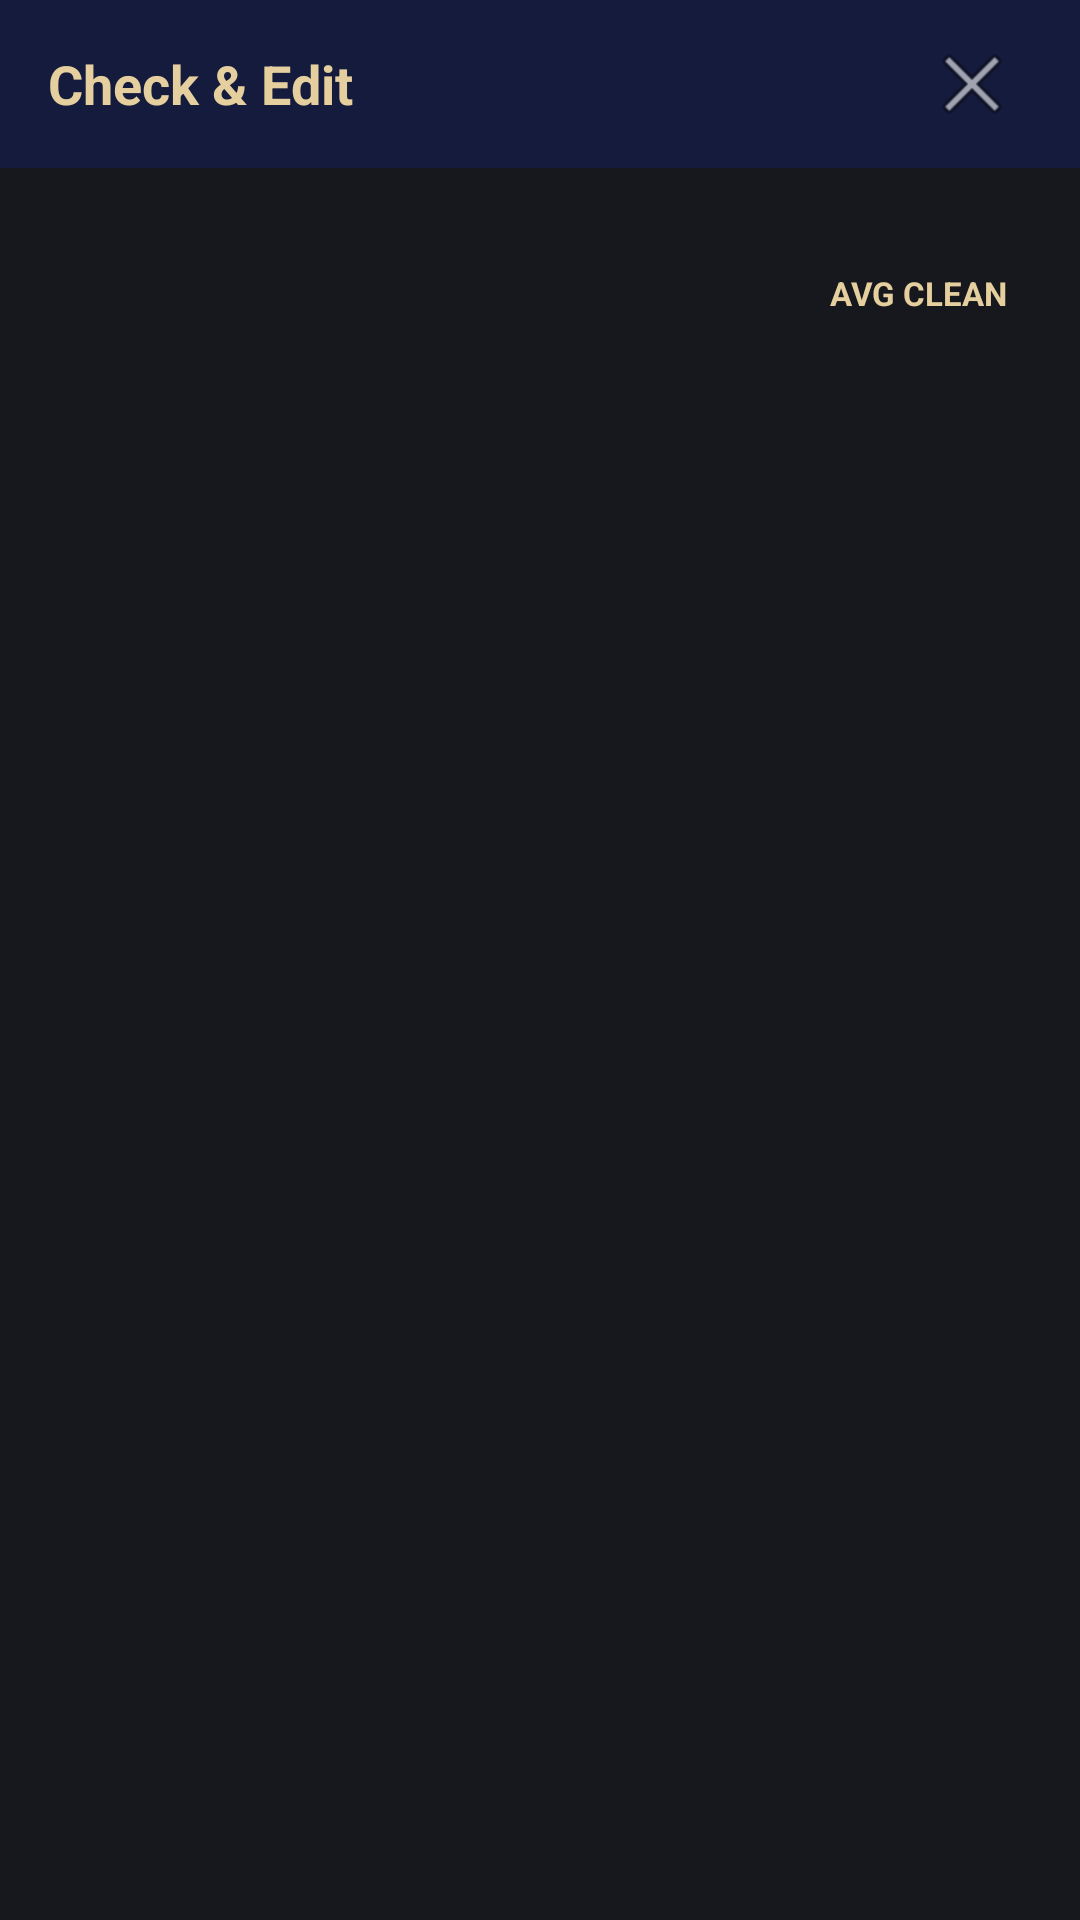

Named icons in this screenshot (1080w x 1920h) and their centers, (x=x, y=y):
Close: (x=972, y=83)
